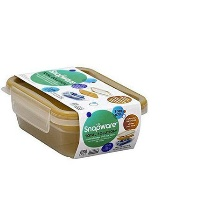plastic_box: (0, 59, 155, 165)
